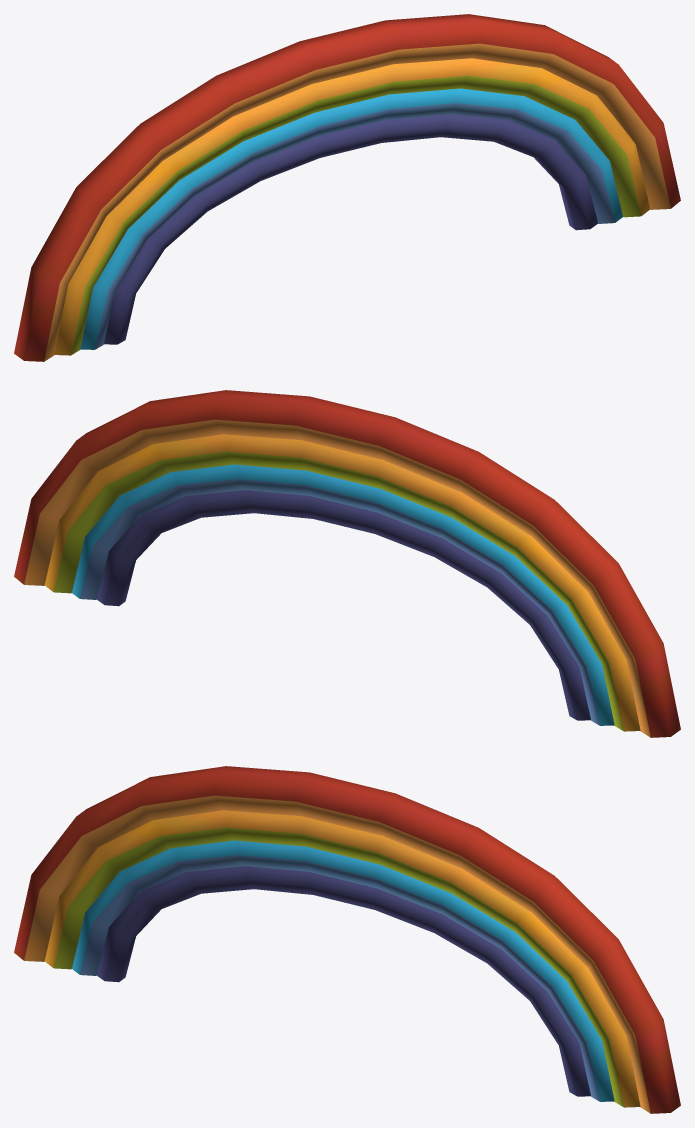
File: candy_platform4.fbx
3 renders of one model, top to bottom at view 1: azimuth 30°, elevation 25°; view 2: azimuth 150°, elevation 25°; view 3: azimuth 330°, elevation 25°, orthographic.
Parts seen in each view (by area): view 1: candy_platform4; view 2: candy_platform4; view 3: candy_platform4.
Boxes of the visible parts, x1,y1,x2,y2 form: candy_platform4: [14, 14, 680, 361]; candy_platform4: [14, 390, 680, 737]; candy_platform4: [14, 766, 680, 1113].
Bounding box in the file's own units: 3728 × 1346 × 197.
Materials: 1 (1 with a texture image).
